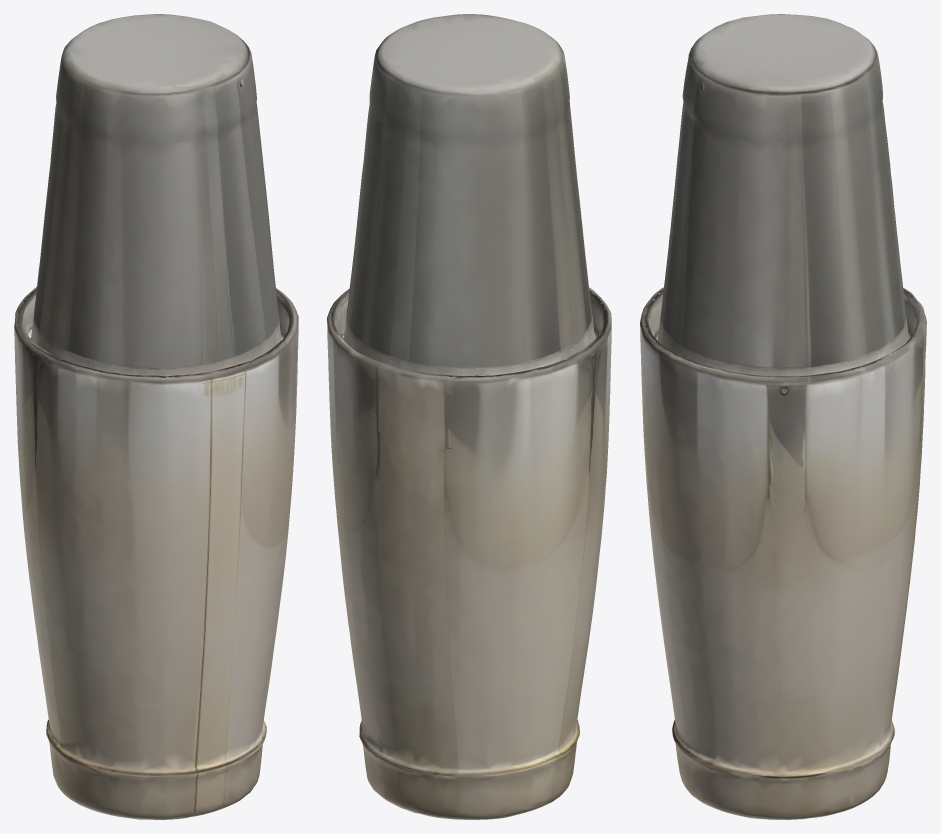
The model's file is Stainless_Steel_Cockt_1208143655_texture.glb.
3 views of the same model, side by side, from view 1: azimuth 30°, elevation 25°; view 2: azimuth 150°, elevation 25°; view 3: azimuth 270°, elevation 25° (orthographic).
Size of the model in its own units: 0.7129 by 2.01 by 0.7161.
1 material, 1 textured.
